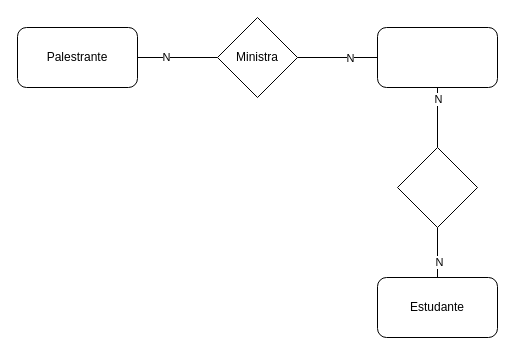
Image size: 515x355. Some labels were removed from this diagram. Here are the shapes that lost their labels. From the top down, the centre of each, then its label:
At (x=437, y=57): "Evento".
At (x=437, y=187): "Inscrição".
